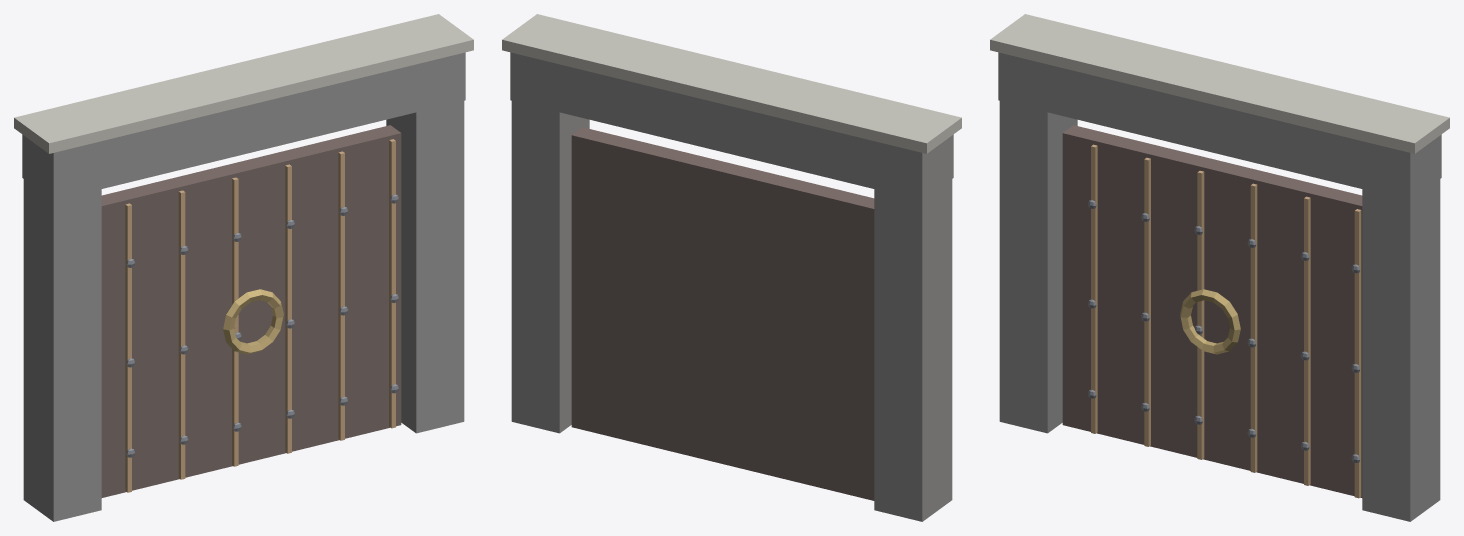
Rendered from portal_fondo.glb.
3 renders of one model, left to right at view 1: azimuth 30°, elevation 25°; view 2: azimuth 150°, elevation 25°; view 3: azimuth 330°, elevation 25°, orthographic.
Visible parts, largest first — view 1: portal_fondo; view 2: portal_fondo; view 3: portal_fondo.
Part boxes in pixels (<box>): portal_fondo: <box>14,14,473,521</box>; portal_fondo: <box>502,14,961,521</box>; portal_fondo: <box>990,14,1449,521</box>.
Bounding box in the file's own units: 3.35 × 2.88 × 0.48.
